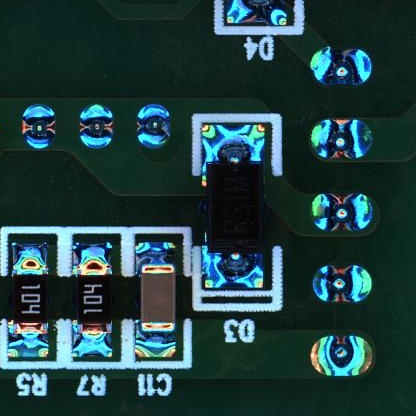spot: (310, 117, 373, 157), (311, 44, 372, 85), (311, 336, 373, 376), (310, 194, 373, 231), (313, 265, 371, 304), (77, 104, 115, 148), (136, 102, 171, 149), (23, 103, 55, 149)
